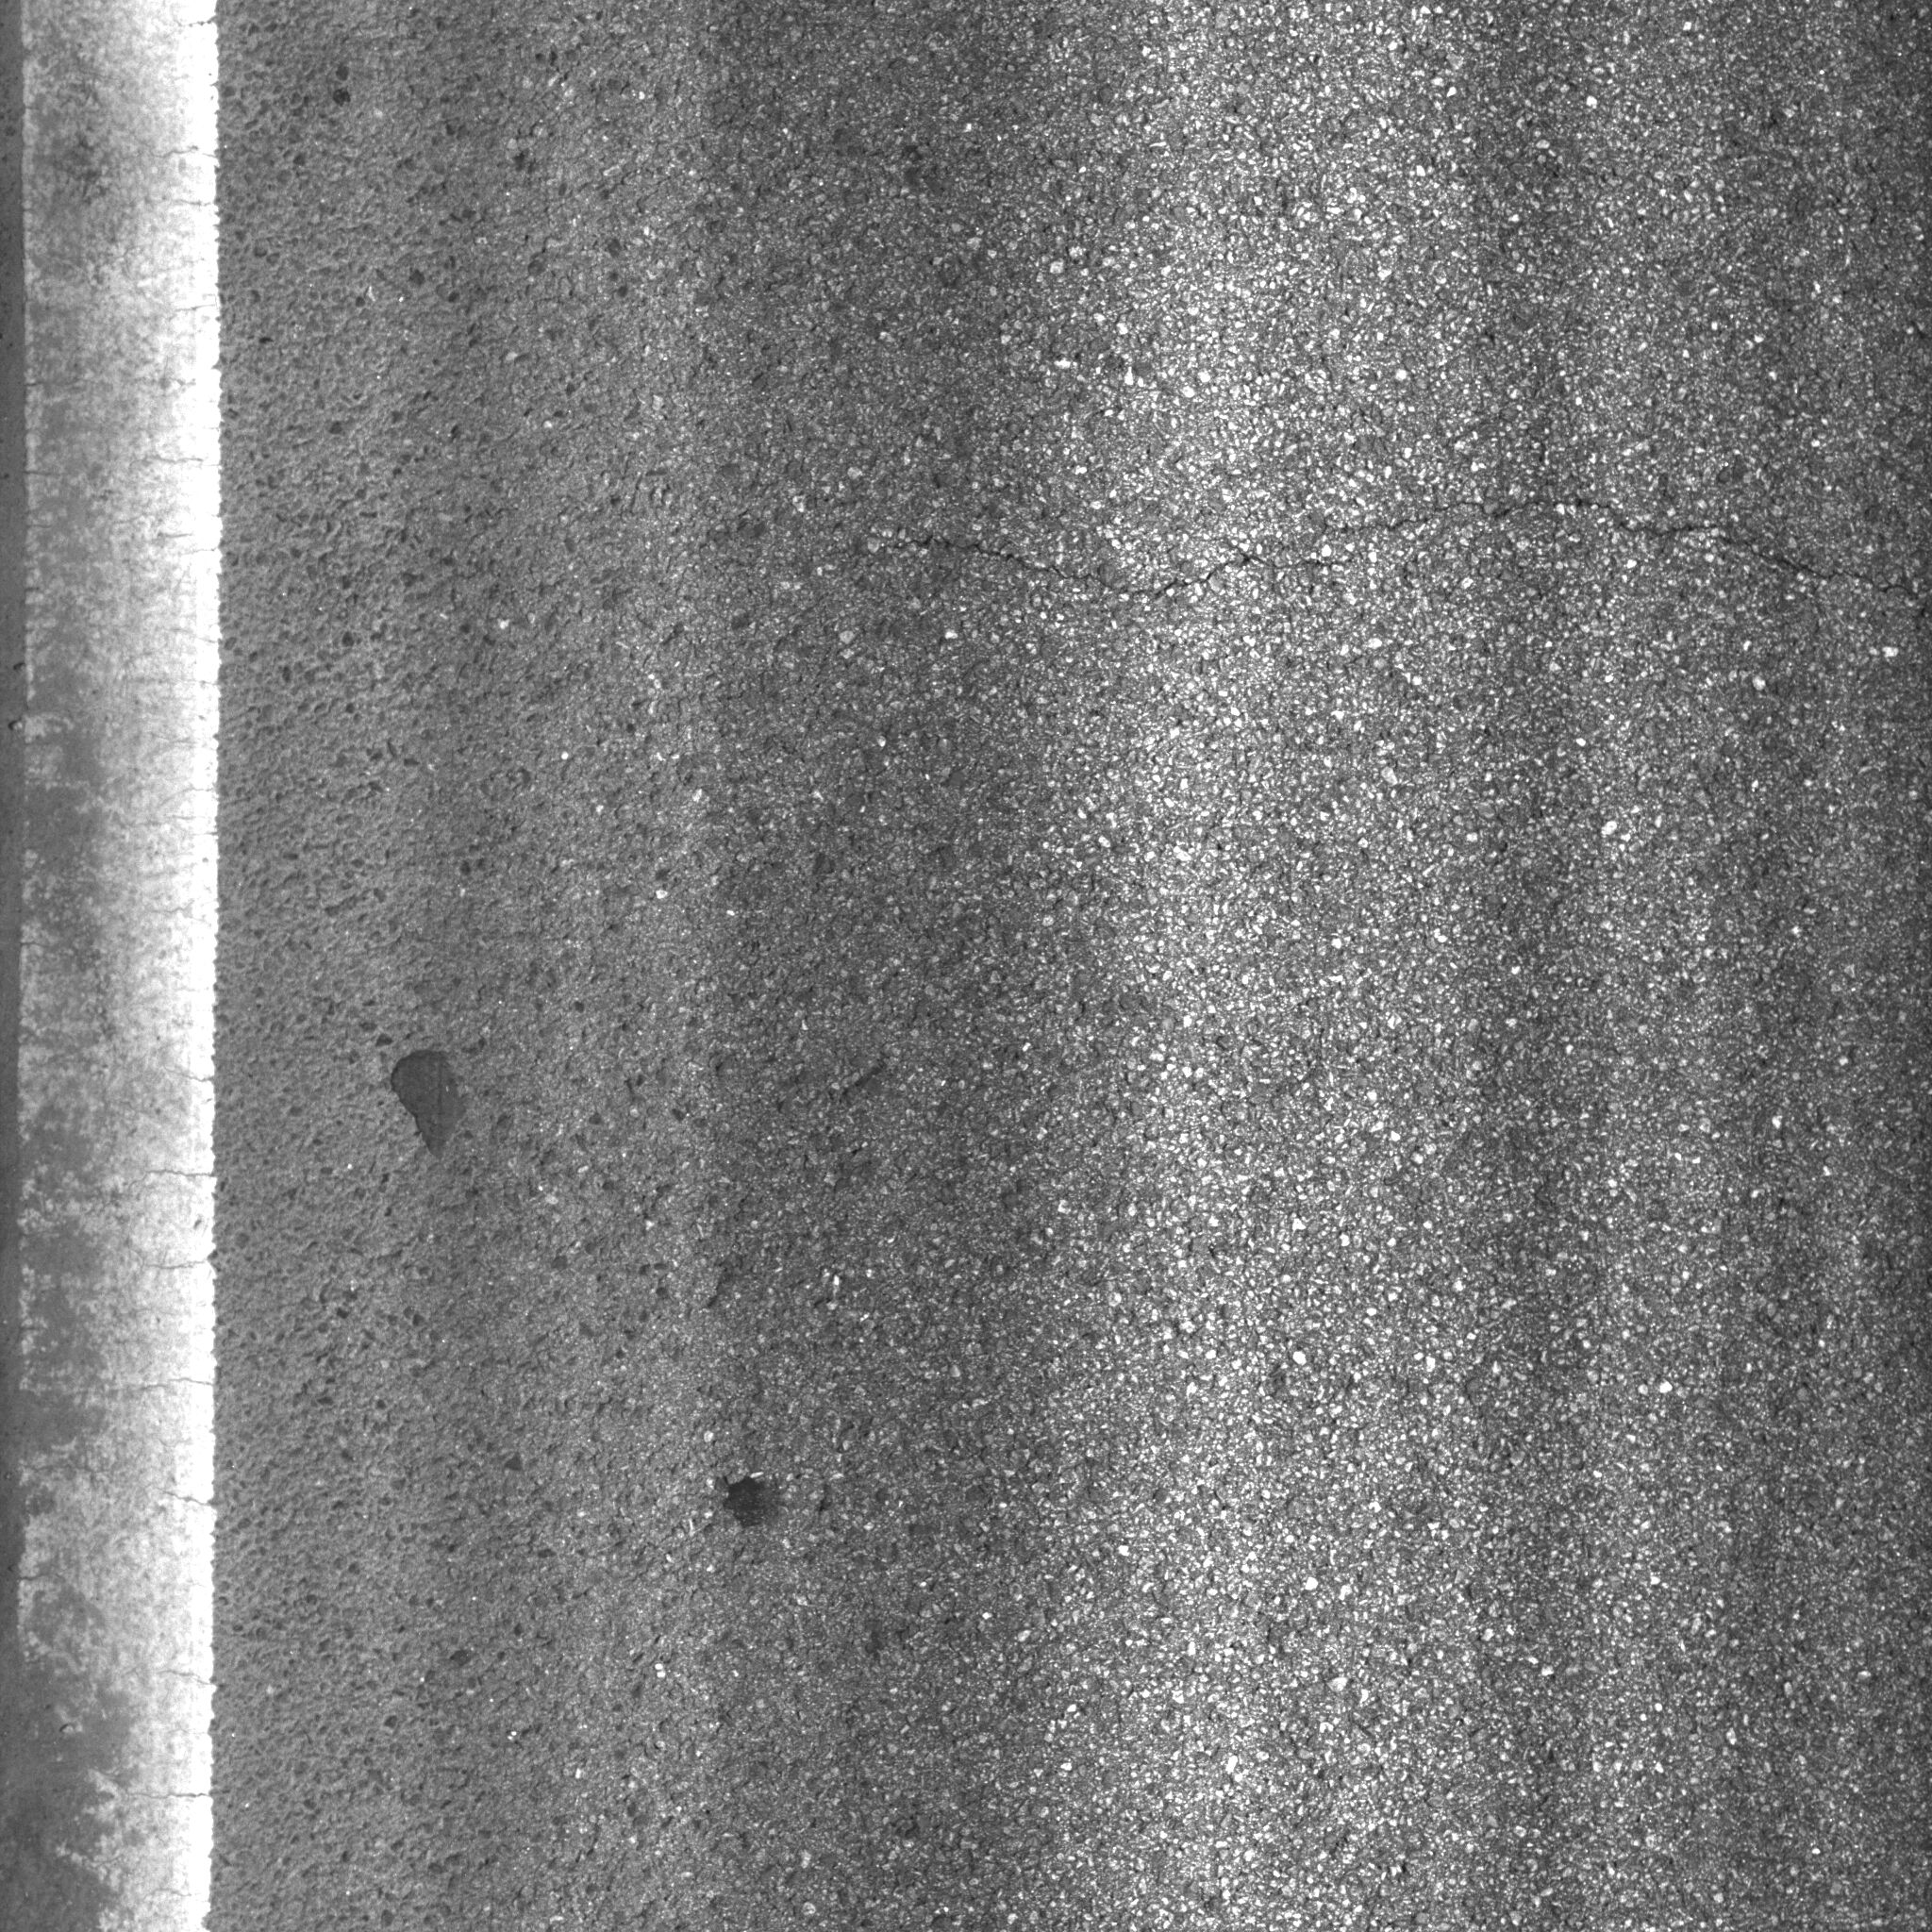transverse: (821, 478, 1893, 633)
